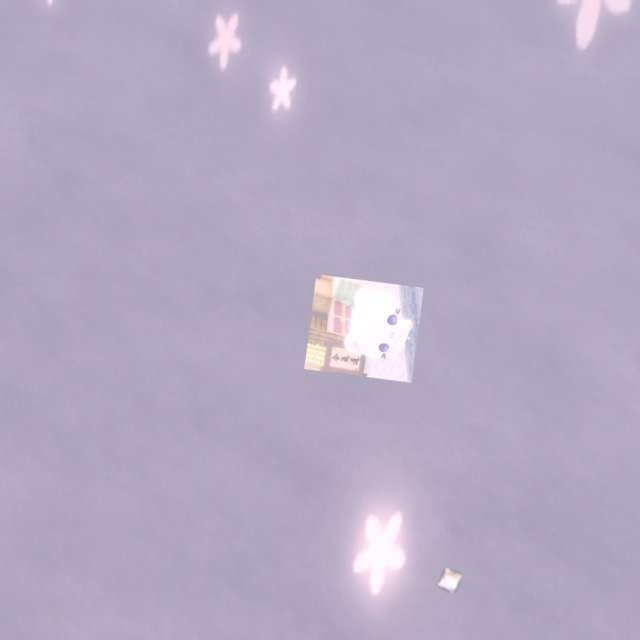urso_branco: (304, 274, 424, 383), (438, 568, 462, 593)
